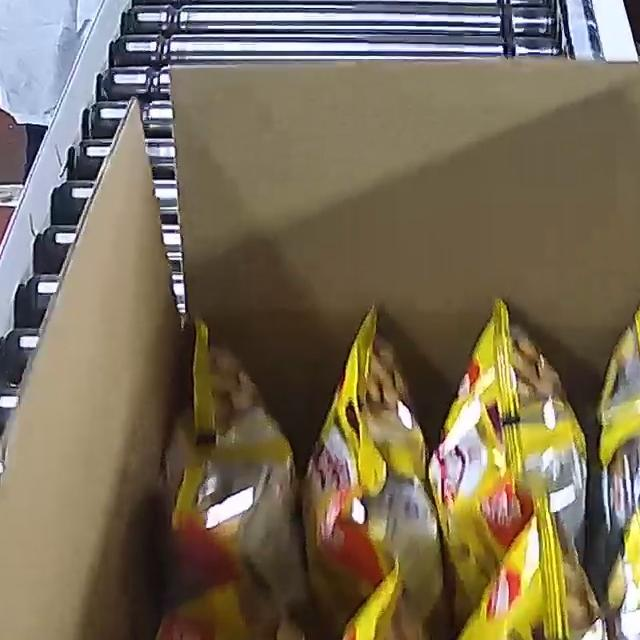salted: (77, 288, 640, 640)
